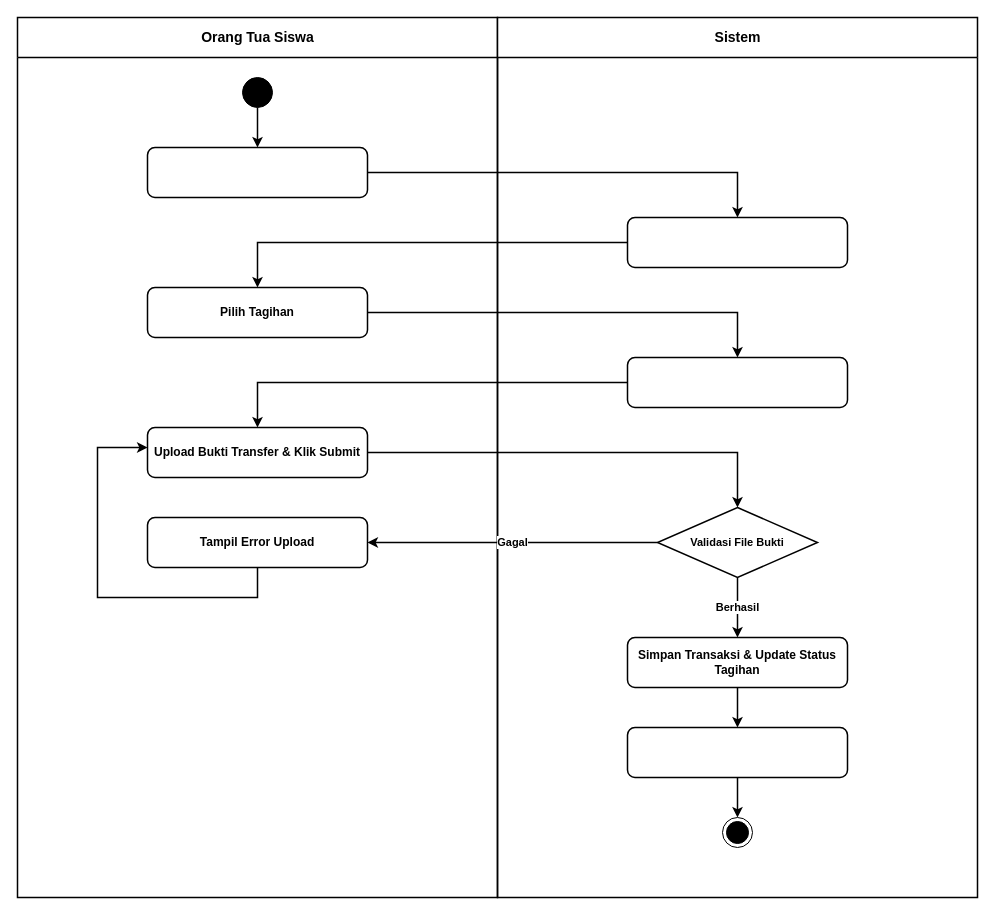
Image size: 996x916. Some labels were removed from this diagram. The shapes that lost their labels are listed below. From the top down, each one's box as (x1, y1, x2, y2) in pixels, then its label:
(146, 146, 368, 198): Pilih Menu Tagihan Saya
(626, 216, 848, 268): Tampilkan Daftar Tagihan
(626, 356, 848, 408): Tampilkan Form Upload Pembayaran
(626, 726, 848, 778): Tampilkan Notifikasi Berhasil
